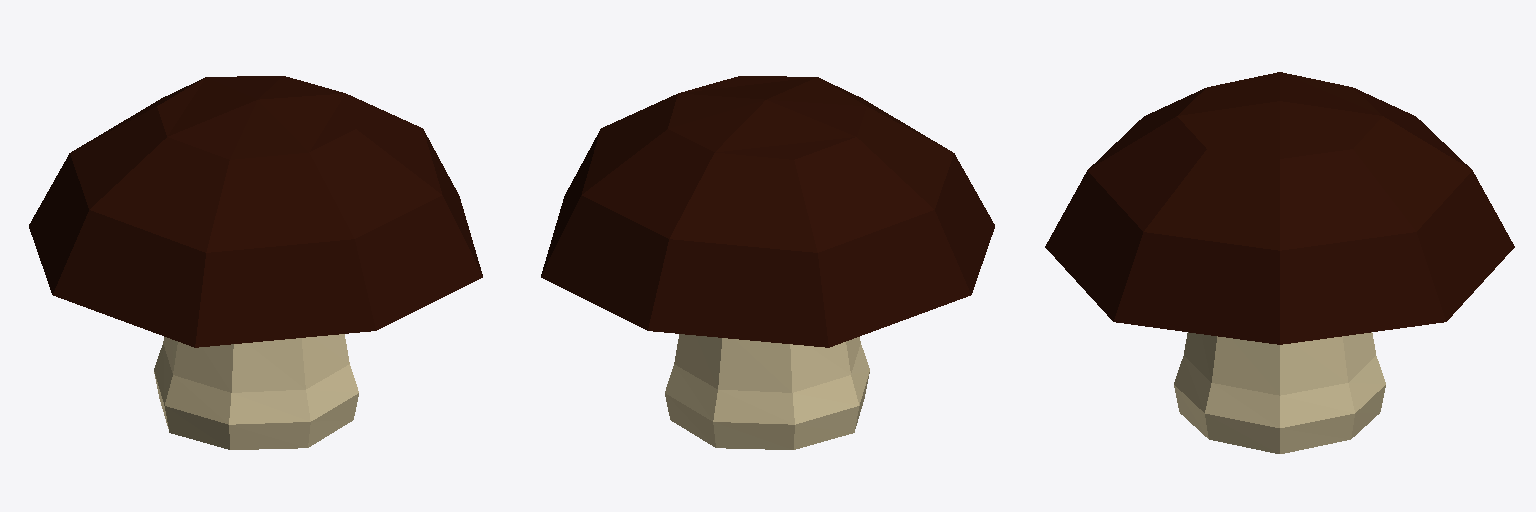
Rendered from grib.obj.
3 renders of one model, left to right at view 1: azimuth 30°, elevation 25°; view 2: azimuth 150°, elevation 25°; view 3: azimuth 270°, elevation 25°, orthographic.
Parts seen in each view (by area): view 1: Cube; view 2: Cube; view 3: Cube.
Part boxes in pixels (left/top/right/bottom): Cube: left=29, top=76, right=482, bottom=449; Cube: left=541, top=76, right=994, bottom=449; Cube: left=1045, top=72, right=1514, bottom=453.
Bounding box in the file's own units: 1.7 × 1.25 × 1.7.